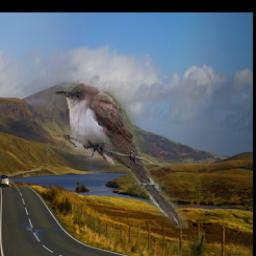Cuckoo: (55, 83, 188, 229)
